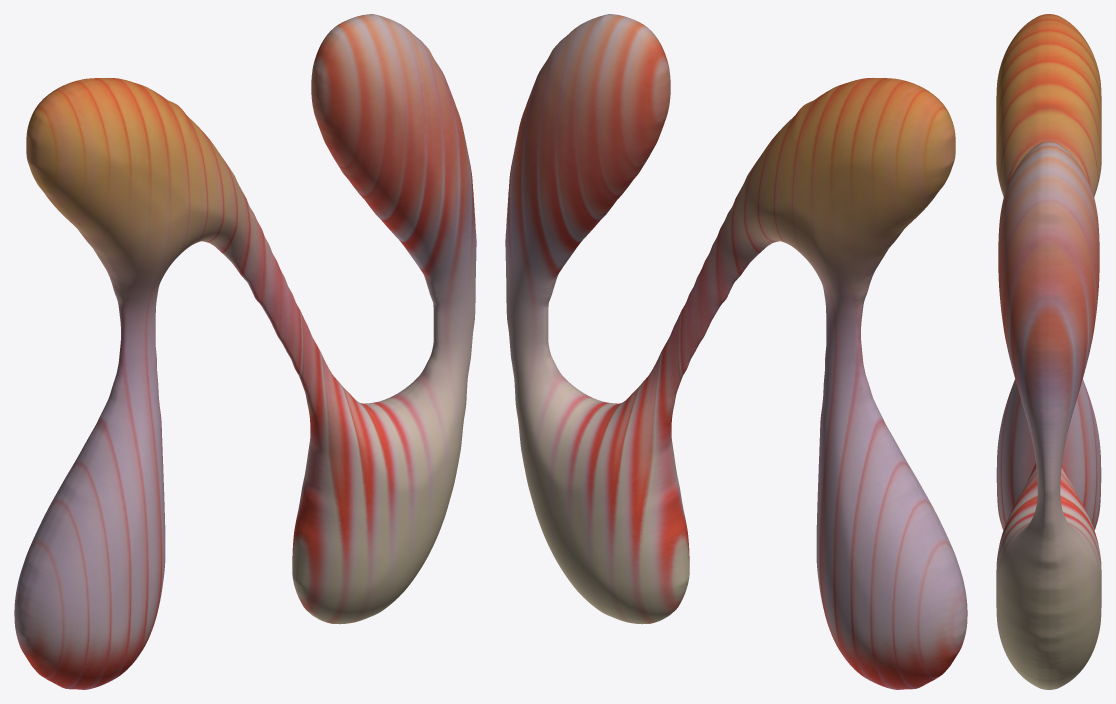
File: letterN.glb
3 views of the same model, side by side, from view 1: azimuth 30°, elevation 25°; view 2: azimuth 150°, elevation 25°; view 3: azimuth 270°, elevation 25° (orthographic). The views are drawn at different scales.
Visible parts, largest first — view 1: Geometry; view 2: Geometry; view 3: Geometry.
Part boxes in pixels (box(x1,y1,x2,y2)): Geometry: box(14, 14, 476, 689); Geometry: box(505, 14, 967, 689); Geometry: box(996, 14, 1101, 689).
Size of the model in its own units: 0.7878 by 1 by 0.1745.
1 material, 1 textured.
